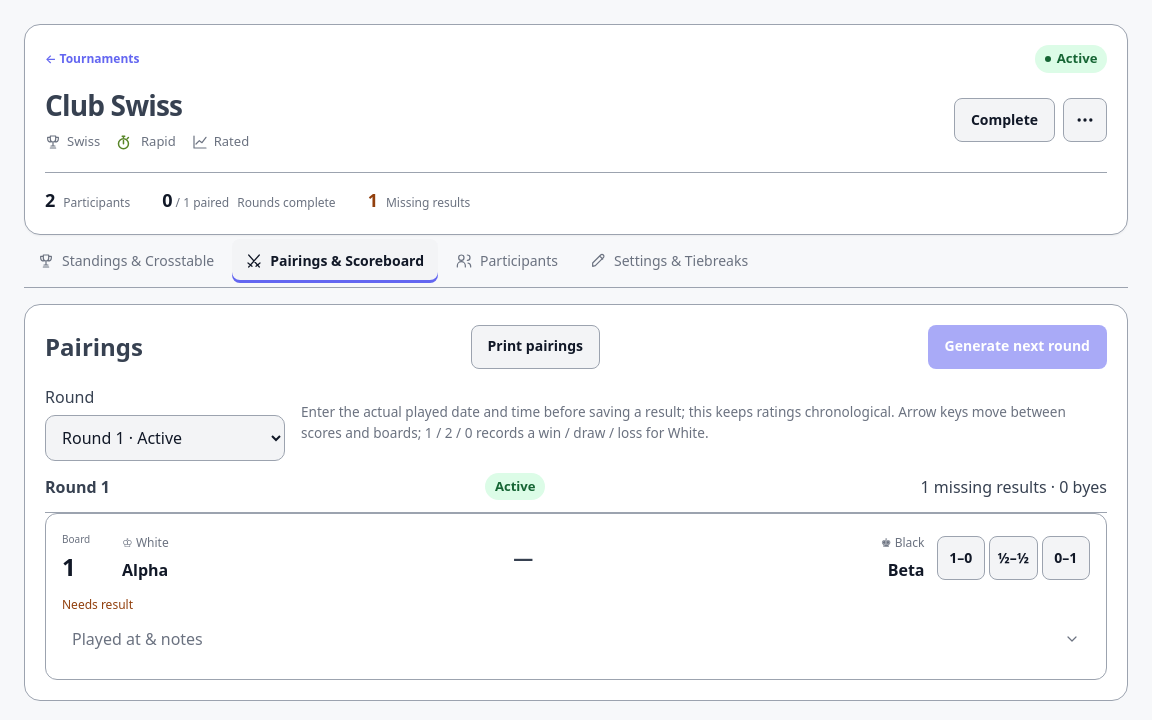
Test: TournamentPage duplicate result protection › explains permanent deletion and requires confirmation before deleting
Click the button named "Tournament actions" at (1085, 120), box [1063,98,1107,142]
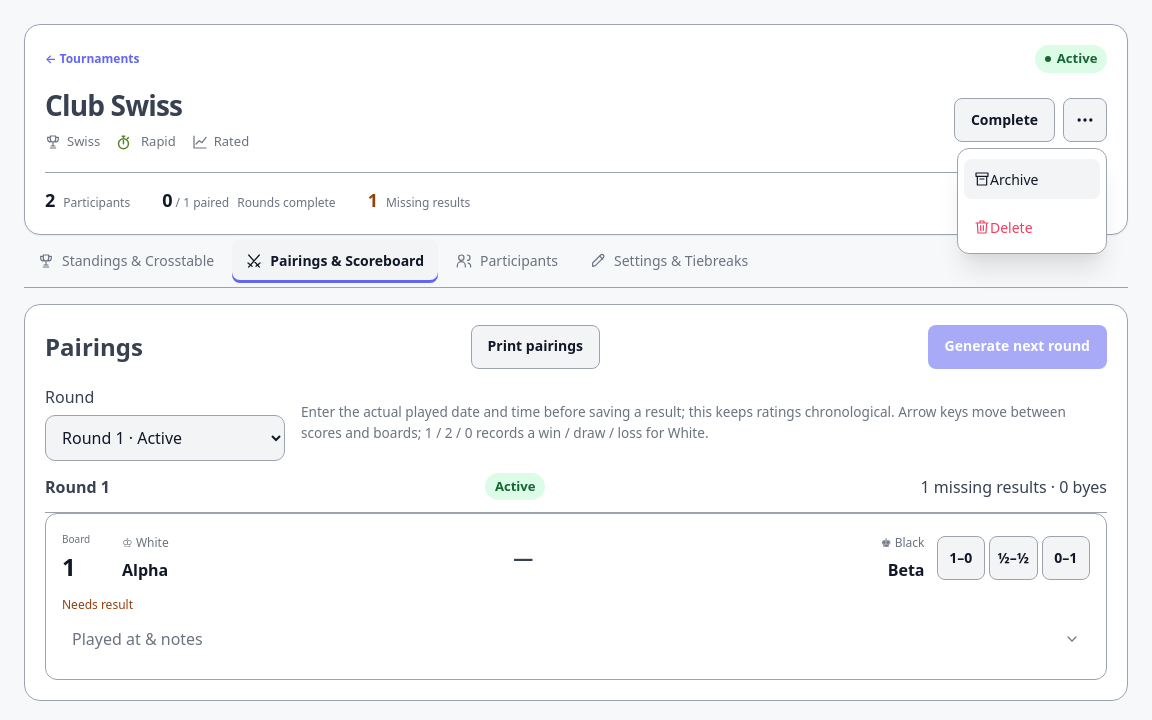
Click the menu item "Delete" at (1032, 227), box [964,207,1100,247]
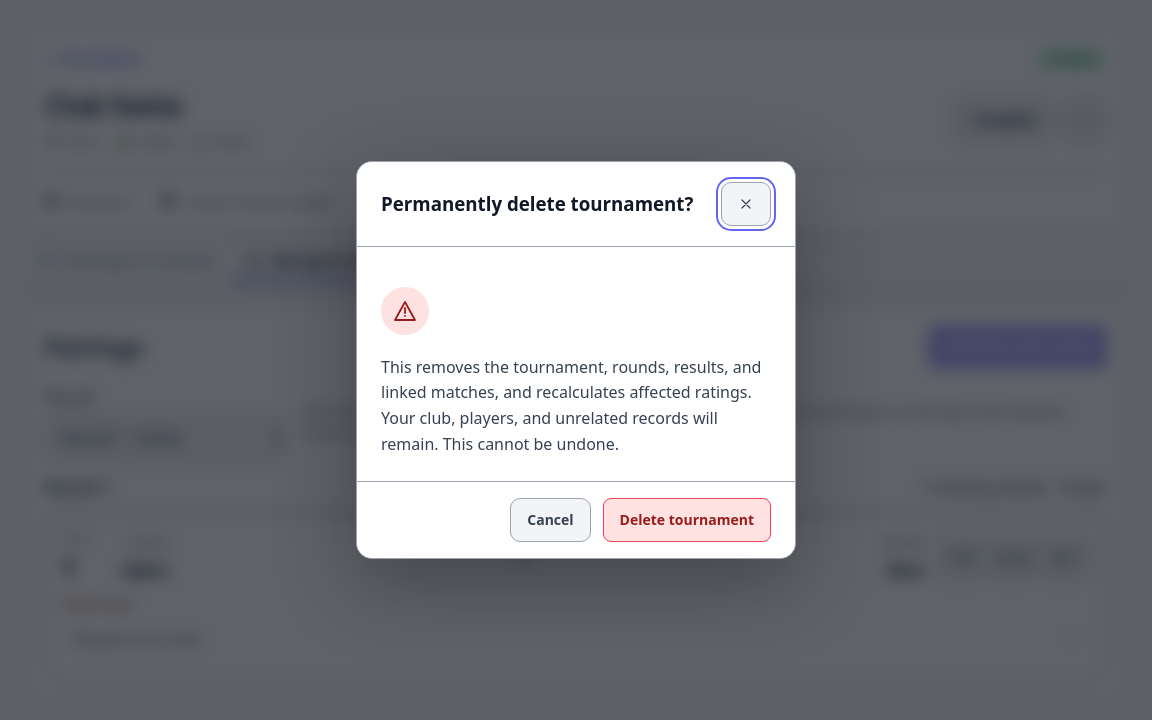
Now the dialog "Permanently delete tournament?" shows "Your club, players, and unrelated records will remain.", box [381,356,761,455]
Click the button "Delete tournament" at (687, 520), box [603,498,771,542]
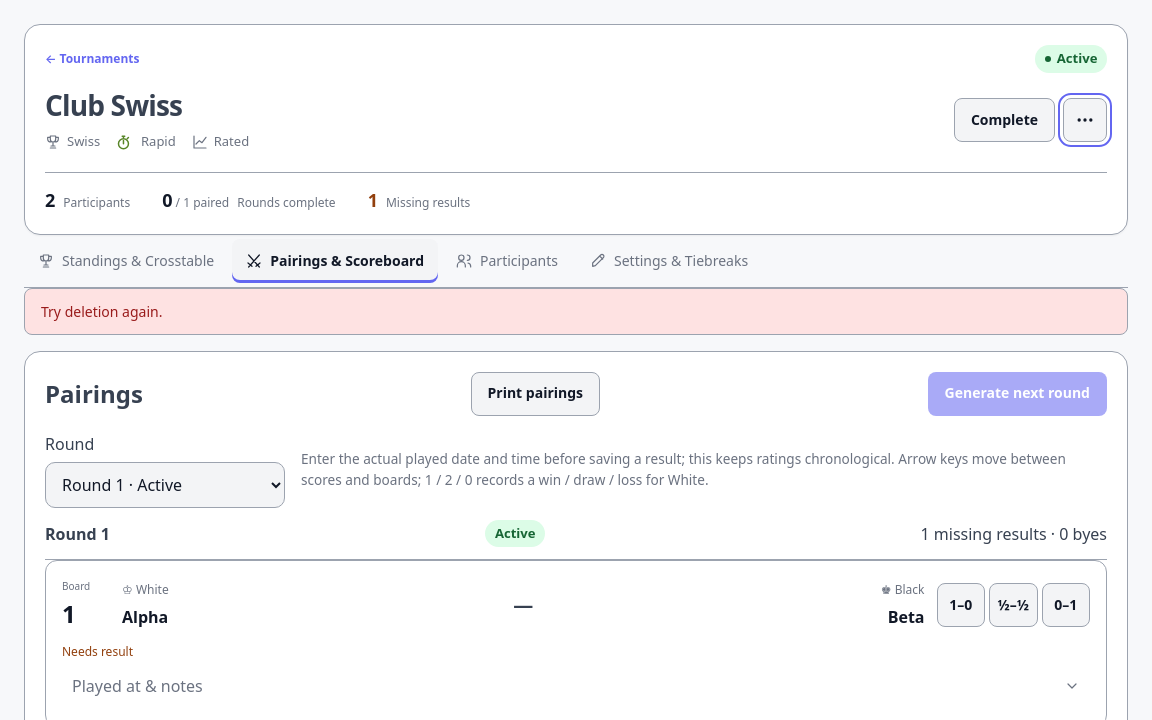
Now the message reads "Try deletion again.", box [41,302,162,321]
